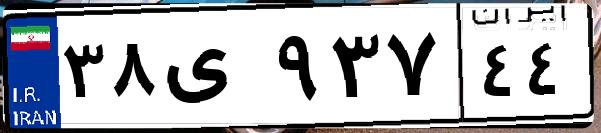3: (330, 28, 385, 110), (57, 26, 110, 100)
4: (475, 38, 525, 113), (525, 38, 570, 115)
7: (385, 28, 445, 110)
8: (110, 28, 158, 98)
9: (270, 28, 330, 110)
ی: (158, 20, 270, 120)
